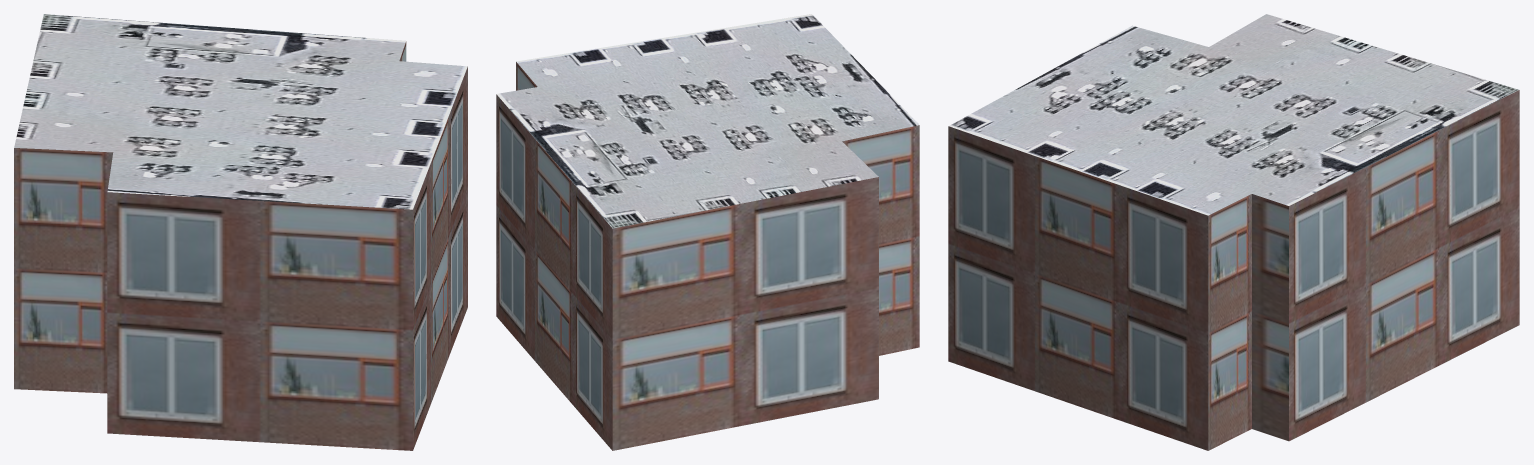
The model's file is ResTex__2990.fbx.
3 views of the same model, side by side, from view 1: azimuth 30°, elevation 25°; view 2: azimuth 150°, elevation 25°; view 3: azimuth 270°, elevation 25° (orthographic). The views are drawn at different scales.
Parts seen in each view (by area): view 1: CityEngineMaterial_19_m, CityEngineMaterial_15_m; view 2: CityEngineMaterial_19_m, CityEngineMaterial_15_m; view 3: CityEngineMaterial_19_m, CityEngineMaterial_15_m.
Part boxes in pixels (x1=…): CityEngineMaterial_19_m: x1=14, y1=41, x2=467, y2=450; CityEngineMaterial_15_m: x1=14, y1=14, x2=467, y2=209; CityEngineMaterial_19_m: x1=496, y1=62, x2=919, y2=450; CityEngineMaterial_15_m: x1=496, y1=14, x2=918, y2=228; CityEngineMaterial_19_m: x1=948, y1=90, x2=1519, y2=450; CityEngineMaterial_15_m: x1=949, y1=14, x2=1518, y2=215.
Bounding box in the file's own units: 11.03 × 6 × 13.2.
Materials: 2 (2 with a texture image).
